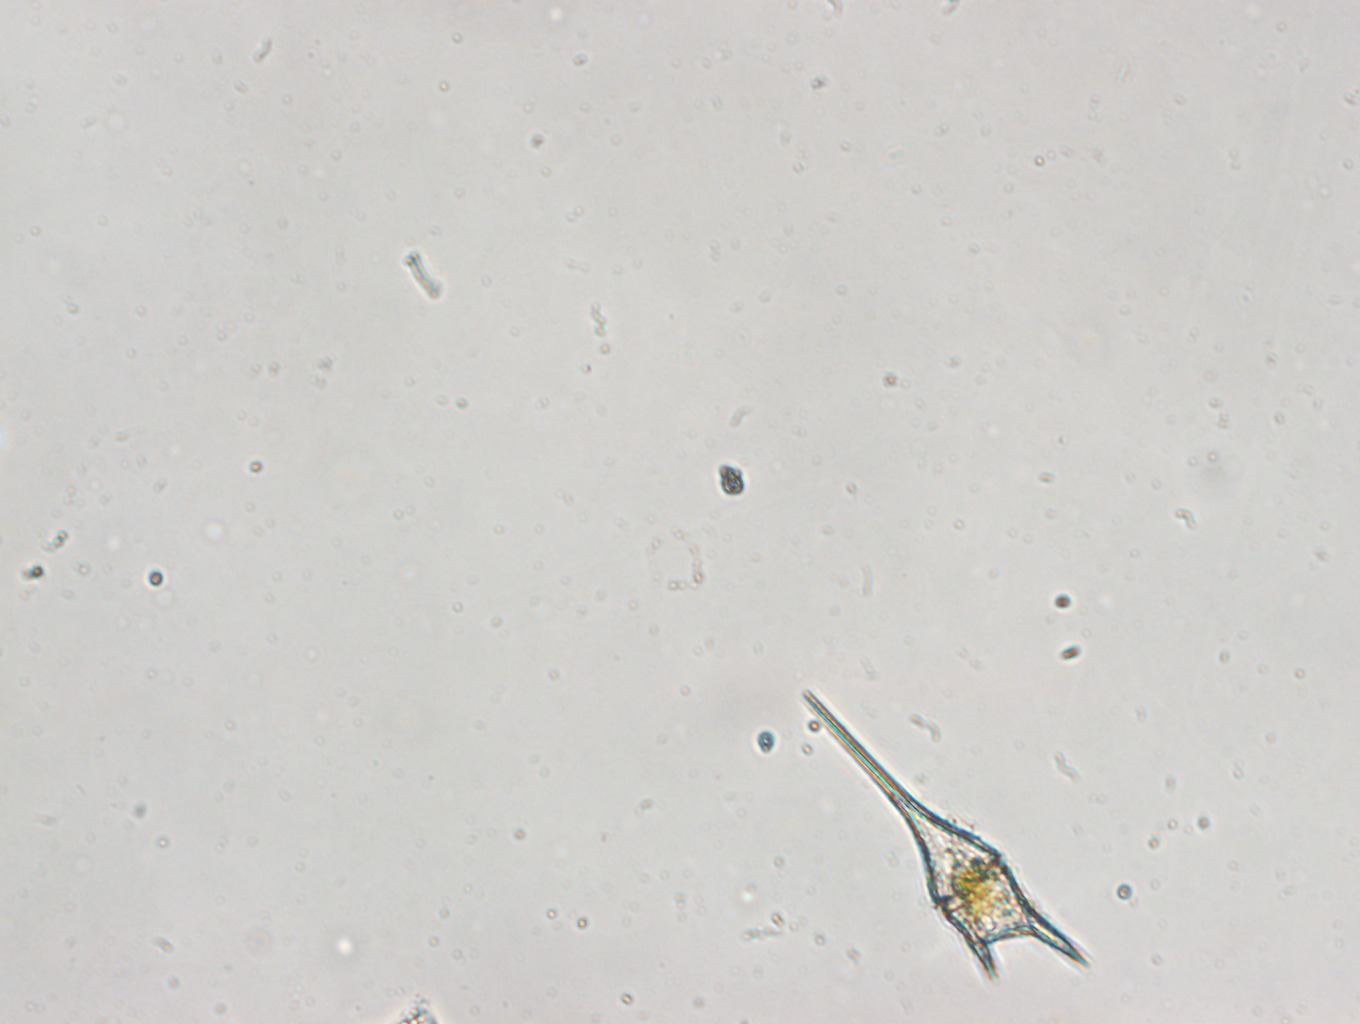ceratium furca: (798, 687, 1092, 983)
